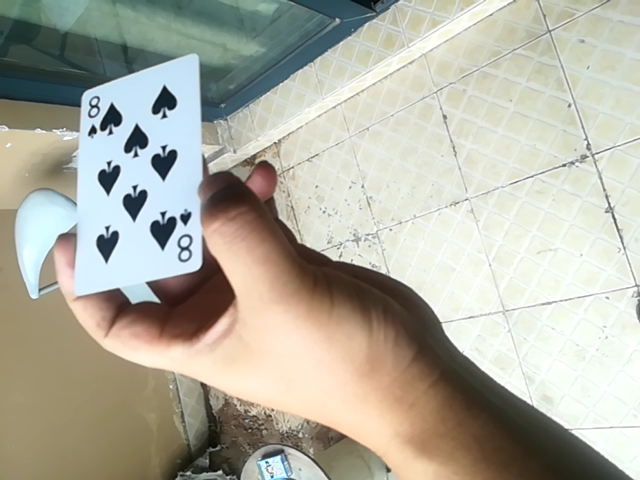ht 8: (64, 51, 203, 301)
